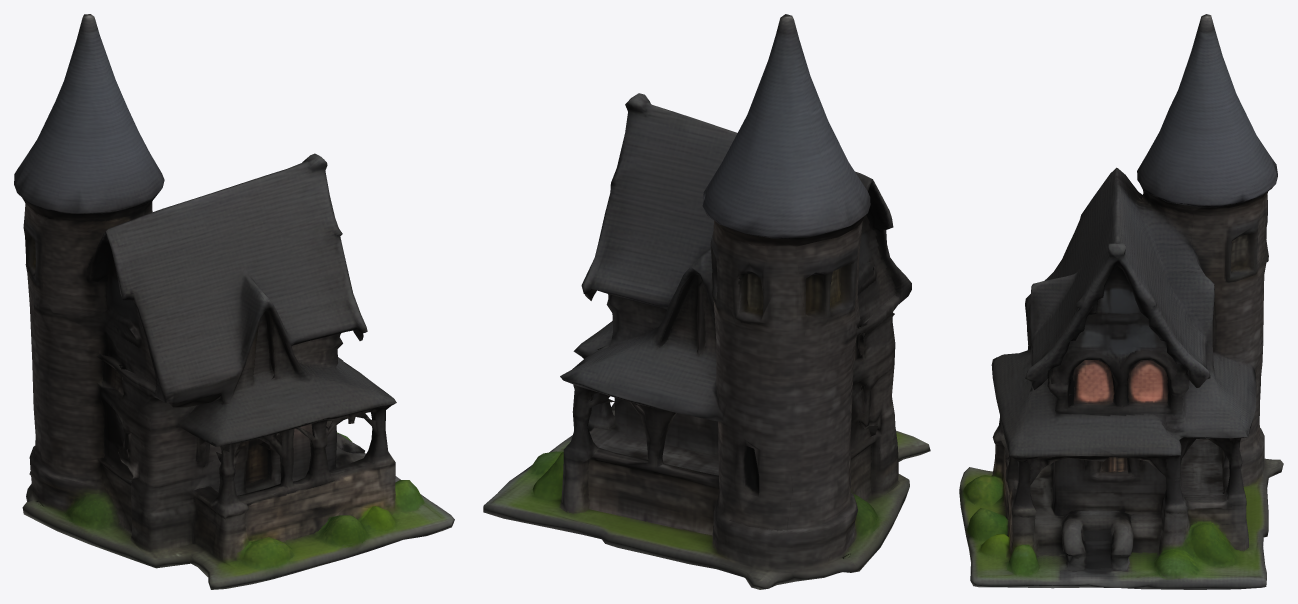
Rendered from gothichouse.glb.
The picture shows the model from 3 angles, left to right: view 1: azimuth 30°, elevation 25°; view 2: azimuth 150°, elevation 25°; view 3: azimuth 270°, elevation 25°; orthographic projection. The views are drawn at different scales.
Visible parts, largest first — view 1: geometry_0; view 2: geometry_0; view 3: geometry_0.
Boxes of the visible parts, left/top/right/bottom form: geometry_0: left=14, top=14, right=454, bottom=589; geometry_0: left=483, top=14, right=930, bottom=589; geometry_0: left=959, top=14, right=1283, bottom=589.
Size of the model in its own units: 0.6779 by 1 by 0.6393.
Materials: 1 (1 with a texture image).
